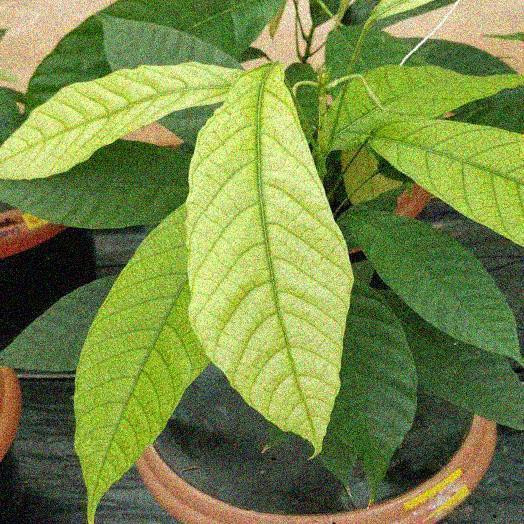Iron: (186, 65, 352, 455), (75, 208, 208, 523), (0, 62, 240, 179), (368, 118, 523, 244), (331, 65, 523, 148)
